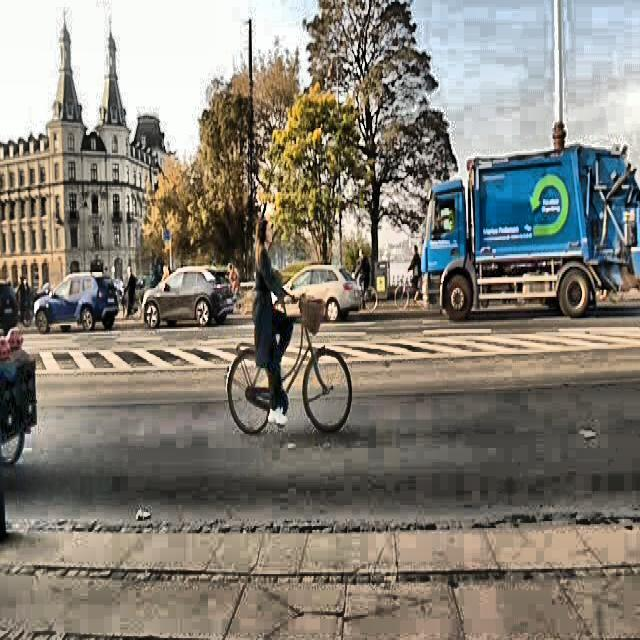bicycle: (228, 290, 353, 436)
ladcykel: (0, 323, 38, 492)
